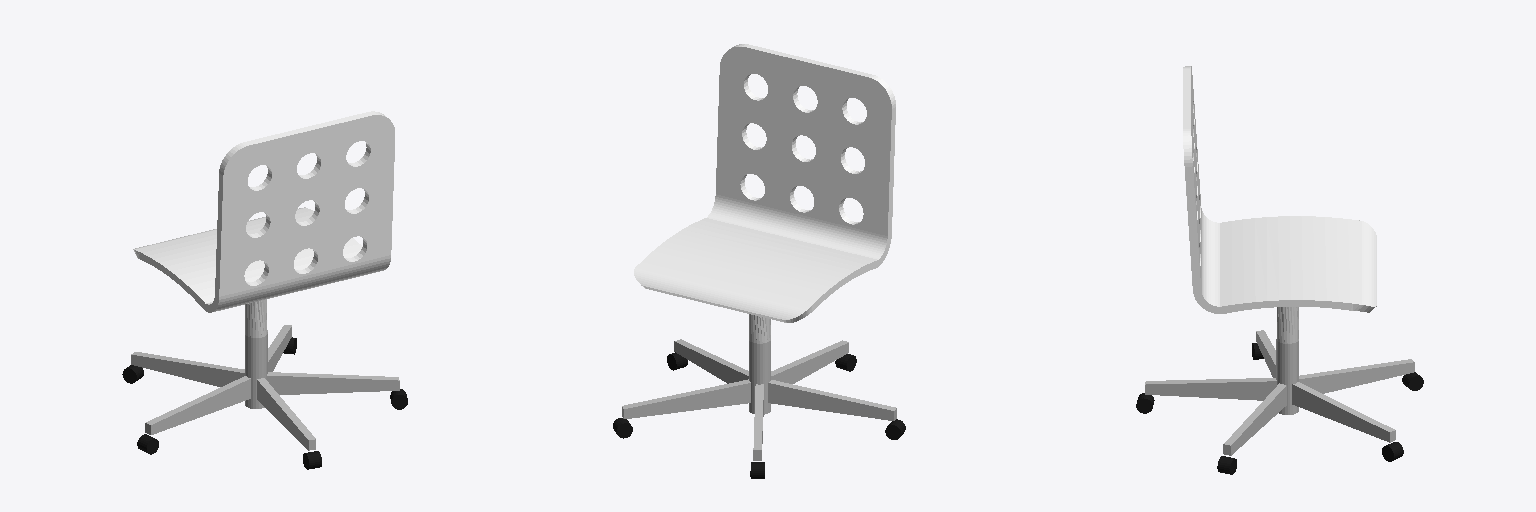
3 views of the same model, side by side, from view 1: azimuth 30°, elevation 25°; view 2: azimuth 150°, elevation 25°; view 3: azimuth 270°, elevation 25° (orthographic).
Parts seen in each view (by area): view 1: Mesh1 Group2 Group1 Model, Mesh5 Group5 Group3 ske3F1 Group1 Model, Mesh7 Group6 Group3 ske3F1 Group1 Model, Mesh12 Group3 ske3F1 Group1 Model, Mesh3 Group4 Group3 ske3F1 Group1 Model, Mesh9 Group7 Group3 ske3F1 Group1 Model, Mesh11 Group8 Group3 ske3F1 Group1 Model; view 2: Mesh1 Group2 Group1 Model, Mesh7 Group6 Group3 ske3F1 Group1 Model, Mesh11 Group8 Group3 ske3F1 Group1 Model, Mesh12 Group3 ske3F1 Group1 Model, Mesh9 Group7 Group3 ske3F1 Group1 Model, Mesh5 Group5 Group3 ske3F1 Group1 Model, Mesh3 Group4 Group3 ske3F1 Group1 Model; view 3: Mesh1 Group2 Group1 Model, Mesh9 Group7 Group3 ske3F1 Group1 Model, Mesh11 Group8 Group3 ske3F1 Group1 Model, Mesh12 Group3 ske3F1 Group1 Model, Mesh3 Group4 Group3 ske3F1 Group1 Model, Mesh5 Group5 Group3 ske3F1 Group1 Model.
Part boxes in pixels (x1,y1,x2,y2): Mesh1 Group2 Group1 Model: (133, 111, 394, 312); Mesh5 Group5 Group3 ske3F1 Group1 Model: (267, 372, 399, 394); Mesh7 Group6 Group3 ske3F1 Group1 Model: (145, 376, 250, 434); Mesh12 Group3 ske3F1 Group1 Model: (245, 299, 267, 408); Mesh3 Group4 Group3 ske3F1 Group1 Model: (131, 352, 244, 386); Mesh9 Group7 Group3 ske3F1 Group1 Model: (257, 378, 315, 450); Mesh11 Group8 Group3 ske3F1 Group1 Model: (268, 325, 291, 371); Mesh1 Group2 Group1 Model: (634, 44, 895, 322); Mesh7 Group6 Group3 ske3F1 Group1 Model: (768, 380, 896, 420); Mesh11 Group8 Group3 ske3F1 Group1 Model: (622, 379, 750, 418); Mesh12 Group3 ske3F1 Group1 Model: (749, 314, 770, 414); Mesh9 Group7 Group3 ske3F1 Group1 Model: (771, 340, 848, 383); Mesh5 Group5 Group3 ske3F1 Group1 Model: (674, 339, 748, 383); Mesh3 Group4 Group3 ske3F1 Group1 Model: (753, 384, 763, 460); Mesh1 Group2 Group1 Model: (1183, 66, 1376, 313); Mesh9 Group7 Group3 ske3F1 Group1 Model: (1145, 378, 1276, 400); Mesh11 Group8 Group3 ske3F1 Group1 Model: (1292, 382, 1395, 442); Mesh12 Group3 ske3F1 Group1 Model: (1276, 307, 1298, 414); Mesh3 Group4 Group3 ske3F1 Group1 Model: (1299, 359, 1414, 393); Mesh5 Group5 Group3 ske3F1 Group1 Model: (1223, 383, 1286, 455).
Bounding box in the file's own units: 0.5472 × 0.6641 × 0.5409.